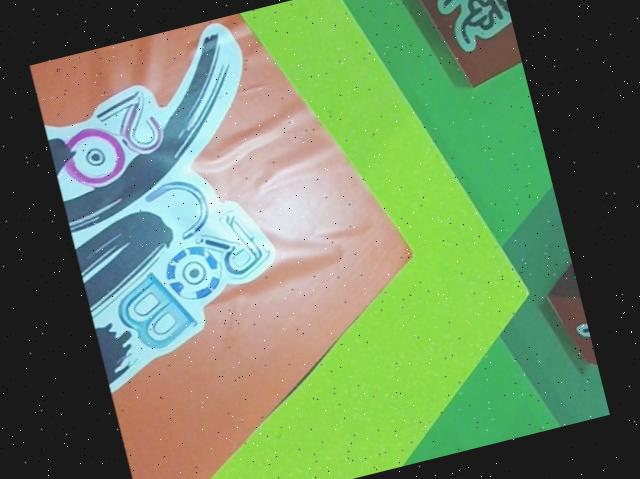R1: (29, 0, 465, 479)
R2 Fake: (406, 0, 524, 93), (536, 244, 602, 390)
